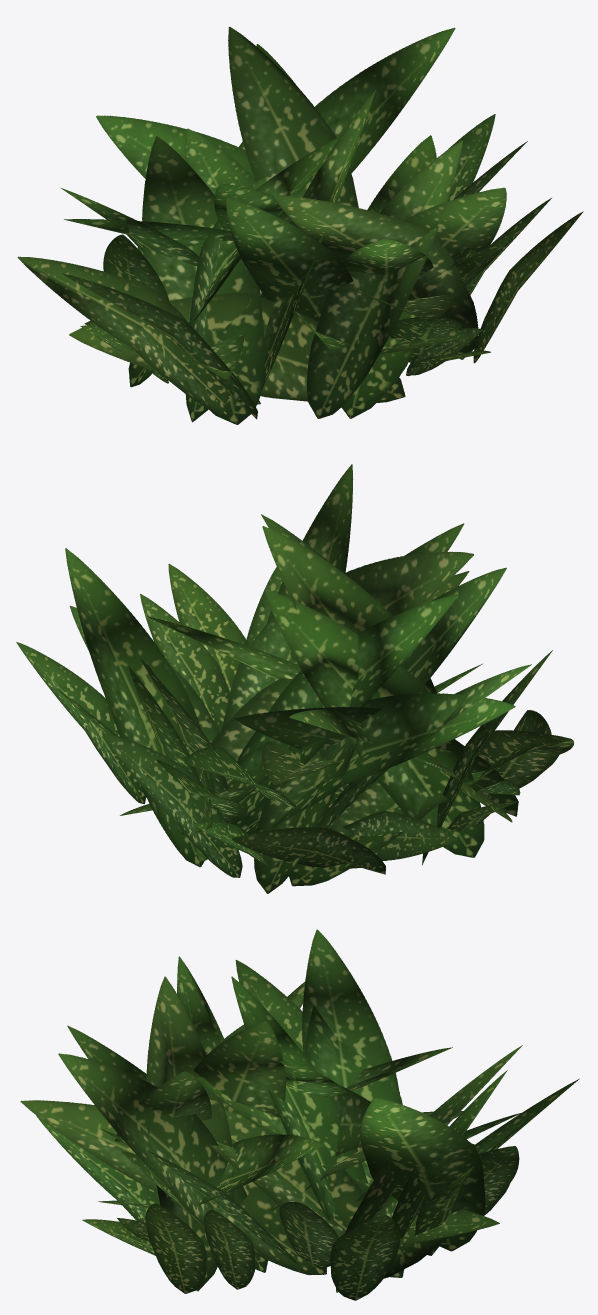
File: mm8_deco_plant03.glb
3 renders of one model, top to bottom at view 1: azimuth 30°, elevation 25°; view 2: azimuth 150°, elevation 25°; view 3: azimuth 270°, elevation 25°, orthographic. The views are drawn at different scales.
Visible parts, largest first — view 1: Plant; view 2: Plant; view 3: Plant.
Boxes of the visible parts, left/top/right/bottom form: Plant: left=17, top=27, right=583, bottom=424; Plant: left=16, top=464, right=573, bottom=893; Plant: left=20, top=929, right=579, bottom=1300.
Bounding box in the file's own units: 0.9222 × 0.447 × 0.9091.
Materials: 1 (1 with a texture image).
